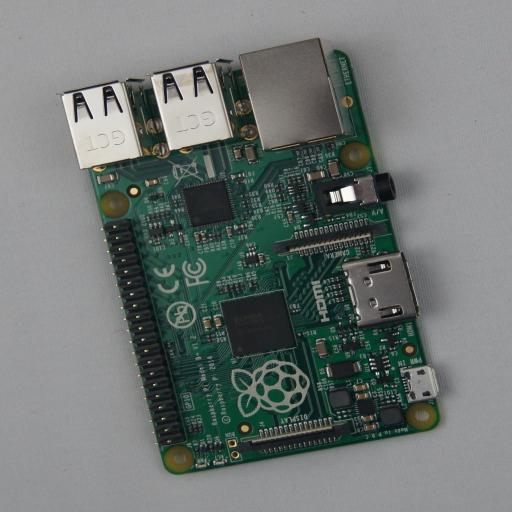Raspberry Pi 1 B-: (63, 38, 446, 474)
